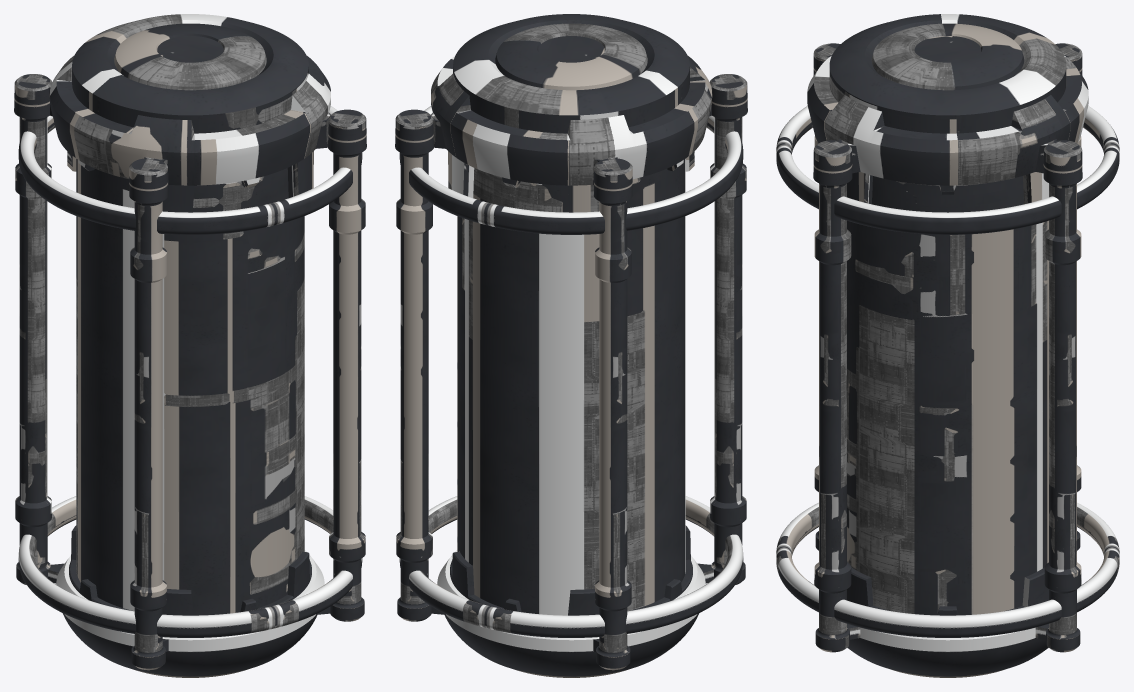
File: Container.fbx
The picture shows the model from 3 angles, left to right: view 1: azimuth 30°, elevation 25°; view 2: azimuth 150°, elevation 25°; view 3: azimuth 270°, elevation 25°; orthographic projection.
Visible parts, largest first — view 1: A_CapsuleSealed_LOD0; view 2: A_CapsuleSealed_LOD0; view 3: A_CapsuleSealed_LOD0.
Part boxes in pixels (x1,y1,x2,y2): A_CapsuleSealed_LOD0: (14,14,366,677); A_CapsuleSealed_LOD0: (395,14,747,677); A_CapsuleSealed_LOD0: (776,14,1119,677).
Bounding box in the file's own units: 59.06 × 115 × 59.06.
Materials: 4 (4 with a texture image).
